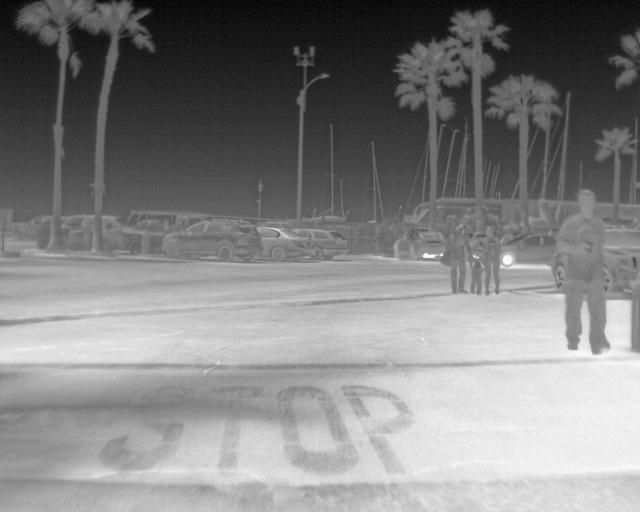bicycle: (161, 213, 264, 259), (497, 229, 561, 265), (287, 228, 346, 262), (255, 225, 308, 261), (101, 212, 141, 255), (393, 229, 442, 260), (58, 213, 95, 229)
empty: (556, 191, 615, 355), (442, 220, 473, 295), (479, 226, 499, 295), (464, 251, 483, 295)
